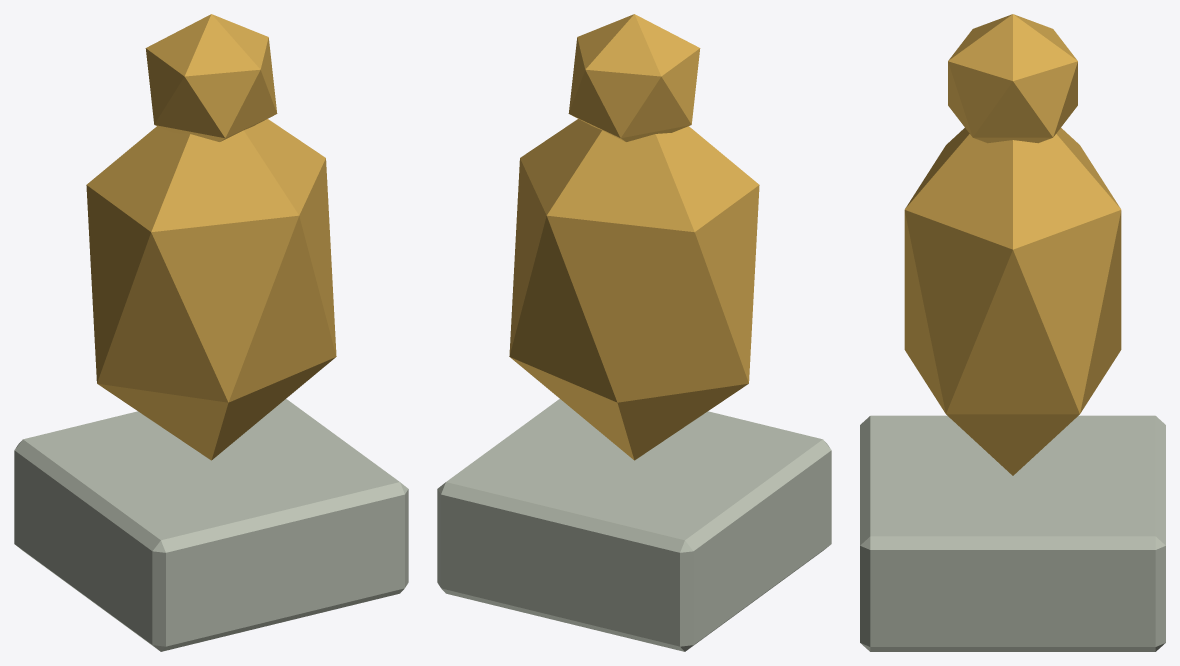
File: gallery-statue.glb
3 renders of one model, left to right at view 1: azimuth 30°, elevation 25°; view 2: azimuth 150°, elevation 25°; view 3: azimuth 270°, elevation 25°, orthographic. The views are drawn at different scales.
Parts seen in each view (by area): view 1: plinth, sculpture, sculpture-crown; view 2: plinth, sculpture, sculpture-crown; view 3: plinth, sculpture, sculpture-crown.
Part boxes in pixels (bbox=[...]): plinth: bbox=[14, 399, 408, 651]; sculpture: bbox=[86, 119, 336, 460]; sculpture-crown: bbox=[145, 14, 277, 141]; plinth: bbox=[437, 399, 831, 651]; sculpture: bbox=[509, 119, 759, 460]; sculpture-crown: bbox=[568, 14, 700, 141]; plinth: bbox=[860, 415, 1165, 651]; sculpture: bbox=[904, 128, 1121, 475]; sculpture-crown: bbox=[948, 14, 1077, 143].
Size of the model in its own units: 1.2 by 2.5 by 1.2.
